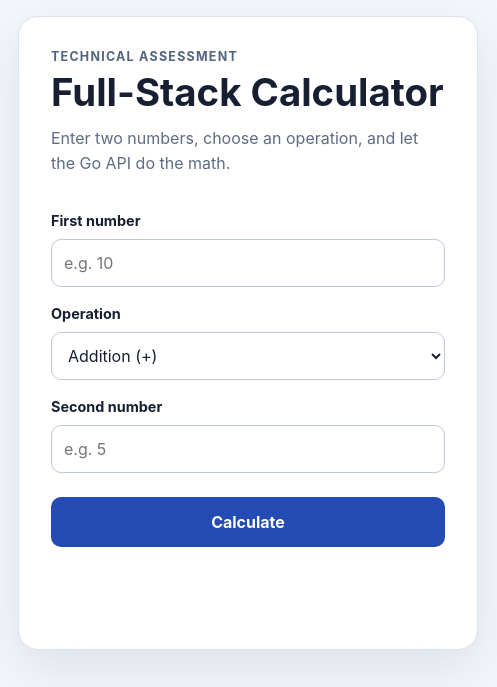
it: App › submits the selected operation and displays the result
Type "6" into the field labelled "First number". click: (248, 262)
box: 51,238 -> 445,286
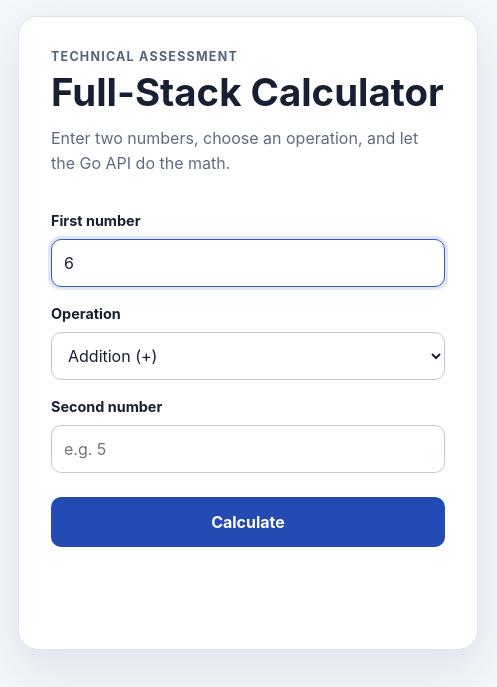
Select "Multiplication (×)" in the dropdown labelled "Operation". click: (248, 356)
box: 51,332 -> 445,380
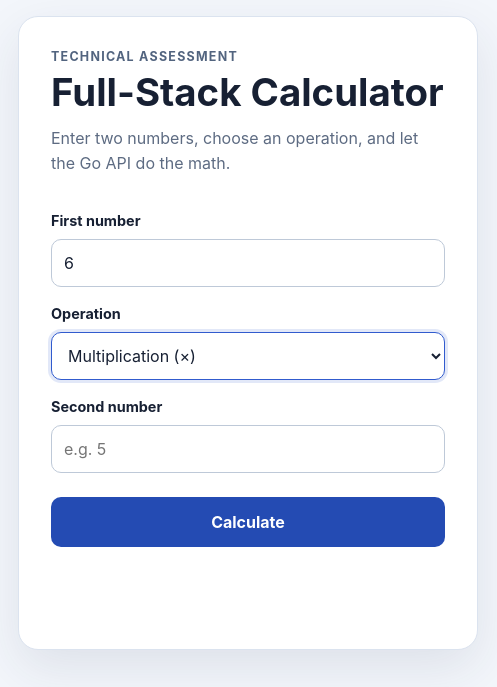
Type "7" into the field labelled "Second number". click: (248, 448)
box: 51,424 -> 445,472
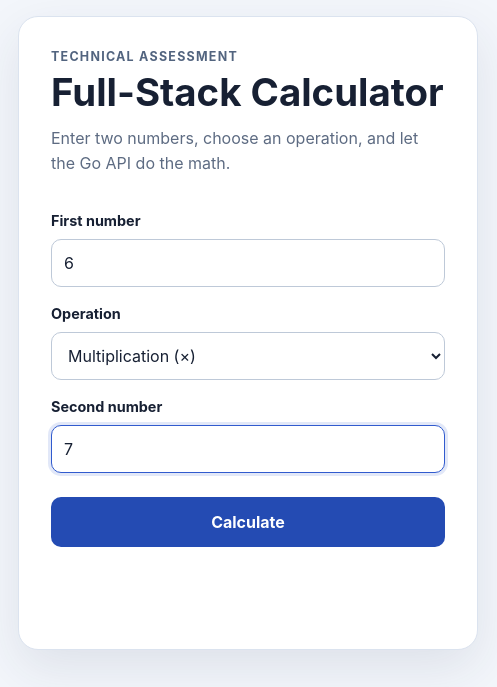
Click the button "Calculate". click: (248, 522)
box: 51,496 -> 445,546
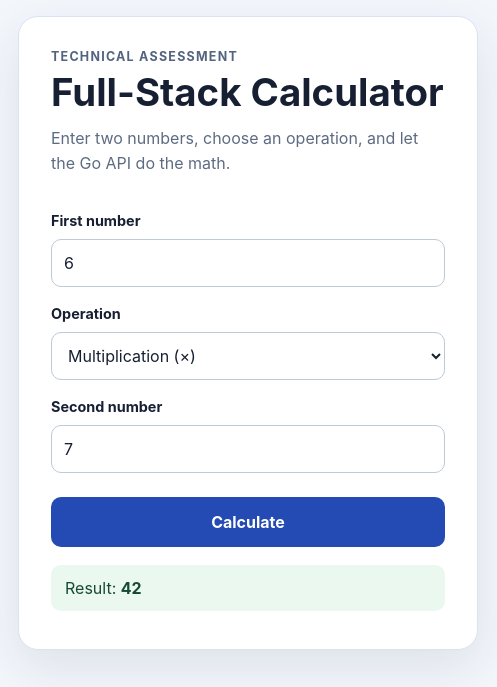
Now the text "Result: 42" is shown, box 51,564 -> 445,611
